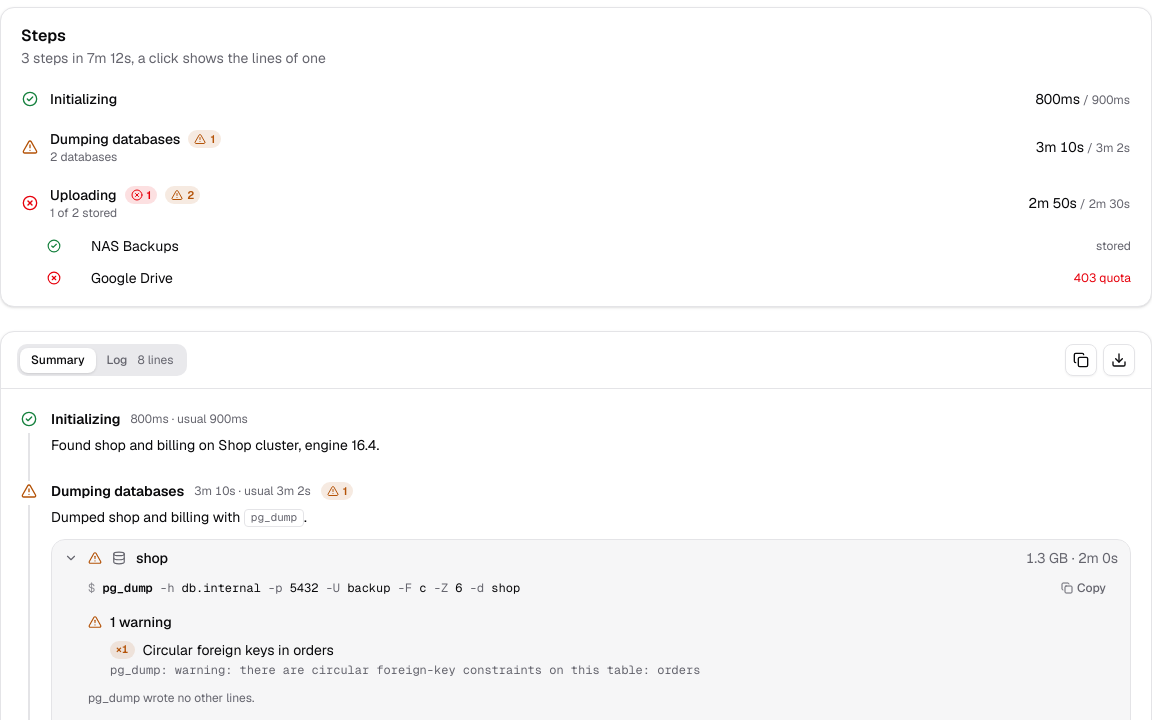
it: the page of a run › shows only the lines of a step once it is picked
(page scrolled)
Click the tab "Log 8 lines". click: click(140, 360)
box: [96,348,184,372]
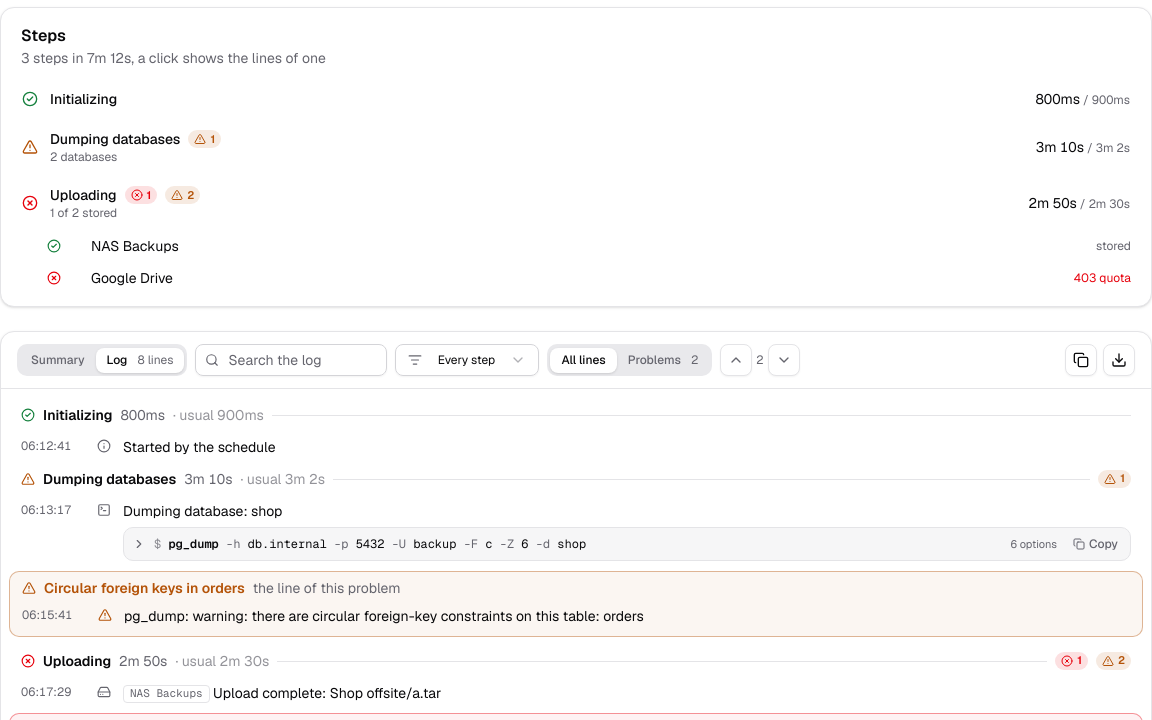
Click the button "Dumping databases 1 2 databases 3m 10s / 3m 2s". click: click(115, 139)
box: [11,120,1141,174]
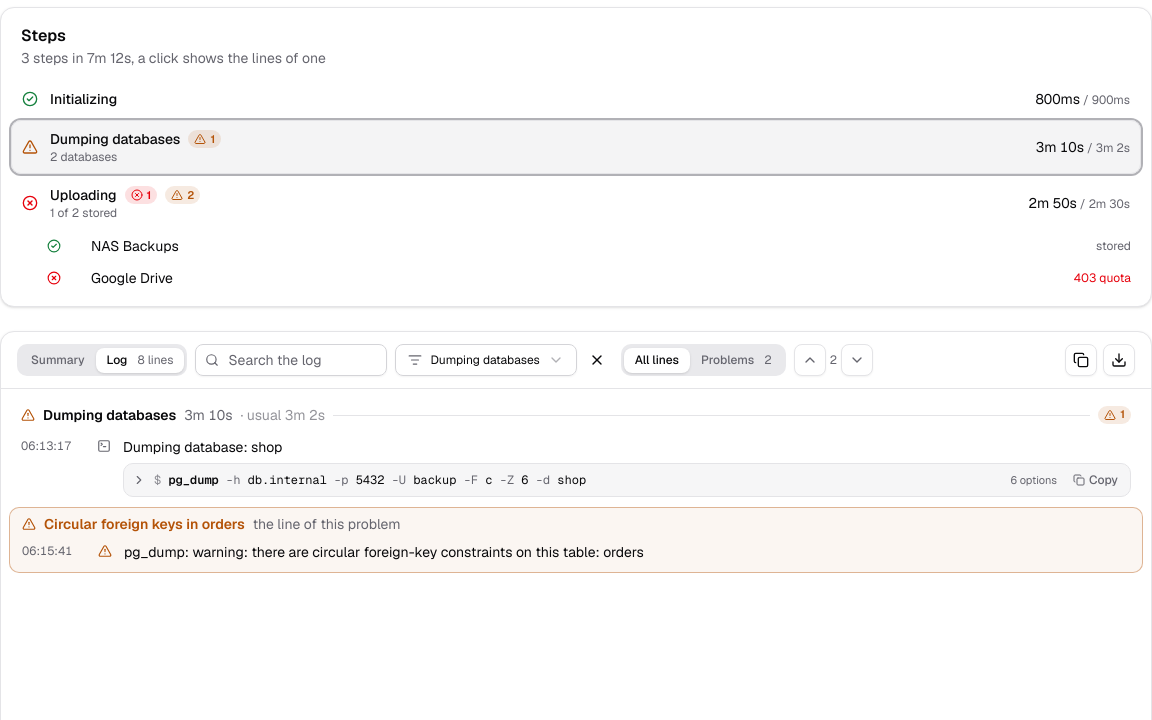
expect the dropdown named "The step the log shows" reads "Dumping databases": met, box [396,344,577,376]
expect the text "Upload complete: Shop offsite/a.tar" is gone: met
Click the button named "Show every step". click: click(597, 360)
box: [581,344,613,376]
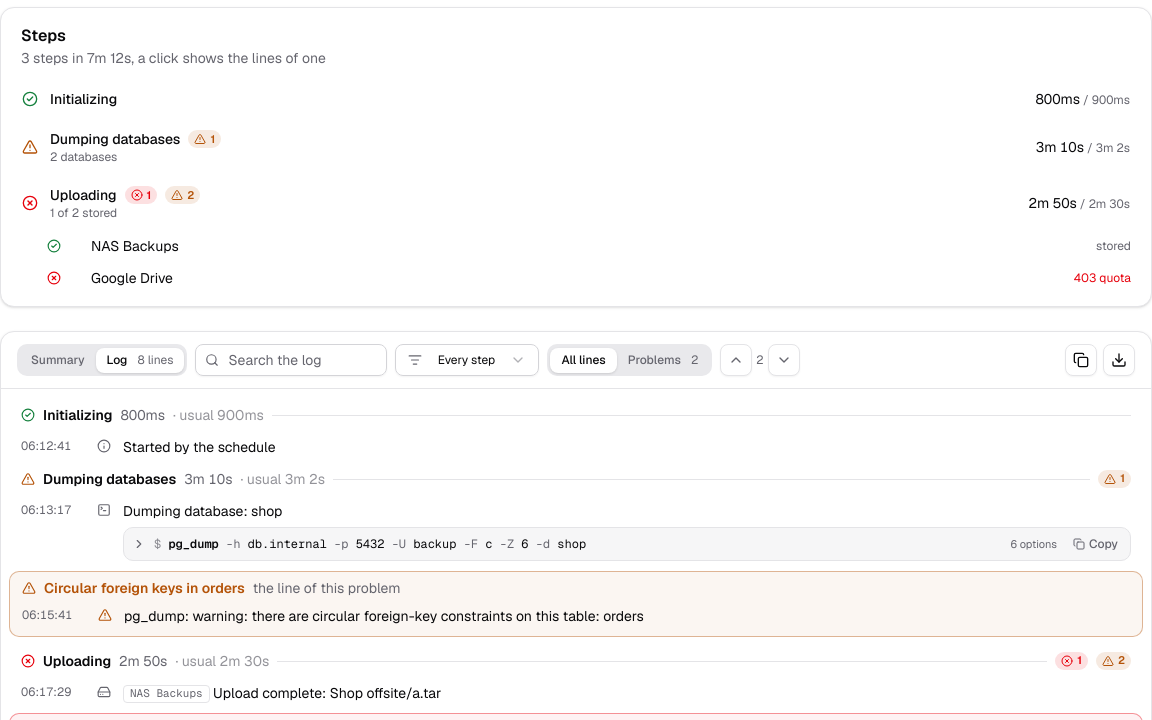
expect the text "Upload complete: Shop offsite/a.tar" is shown: met, box [213,684,441,702]
